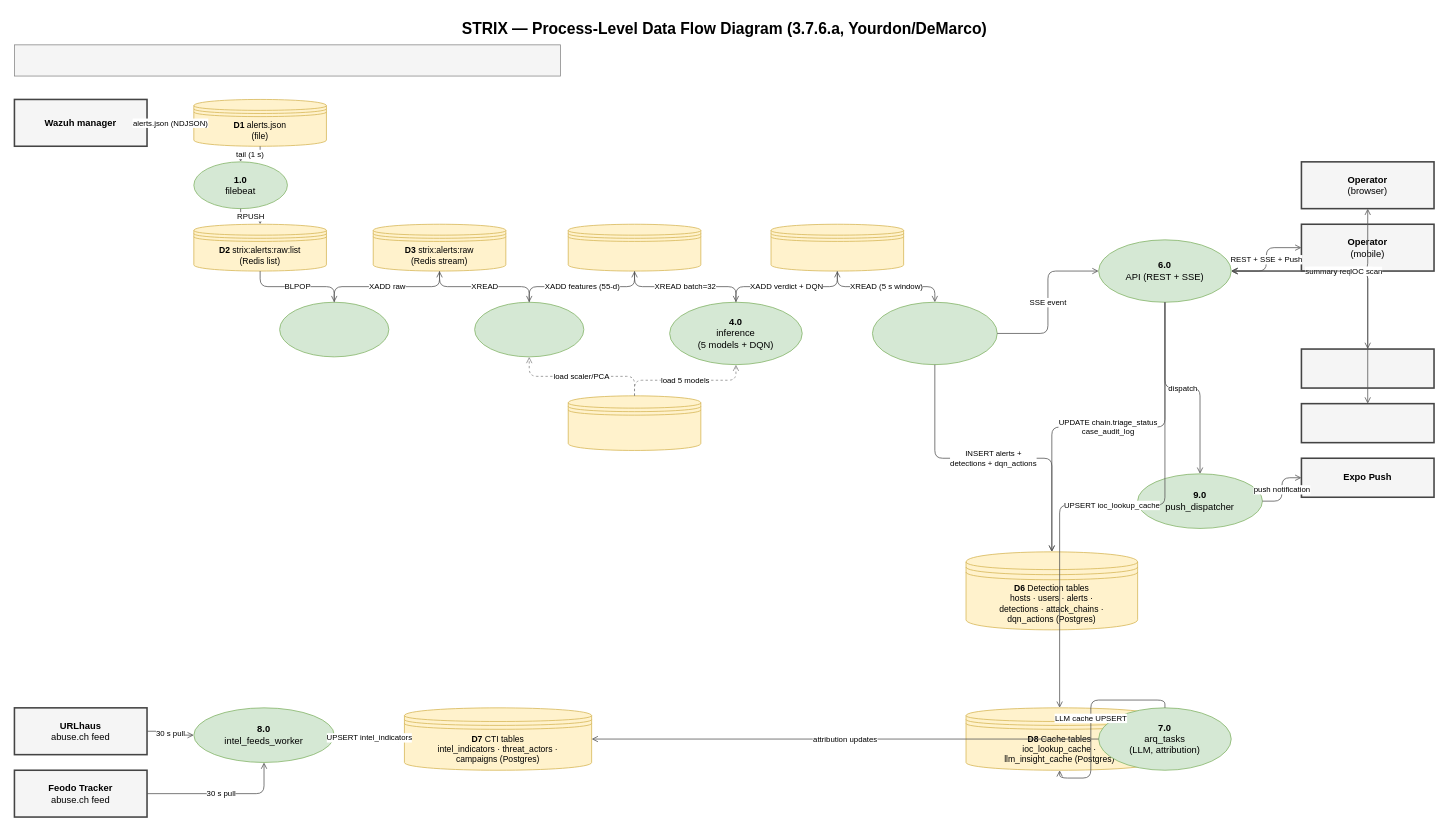
This 1448x831 diagram has some shape labels left out. Each missing label, with the centre of its shape:
"2.0 wazuh_bridge" goes at point 334,329.
"3.0 normalizer" goes at point 529,329.
"5.0 verdicts_writer" goes at point 934,333.
"Claude API" goes at point 1367,368.
"D4 strix:features:{shard} (Redis stream)" goes at point 634,247.
"D5 strix:verdicts (Redis stream)" goes at point 837,247.
"D9 apps/models/ SHA-pinned artefacts (file system)" goes at point 634,422.
"Legend □ External entity ◯ Process ═ Data store → Data flow" goes at point 287,60.
"VirusTotal" goes at point 1367,422.
